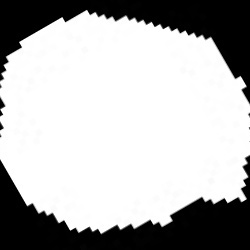spot: (0, 11, 249, 234)
